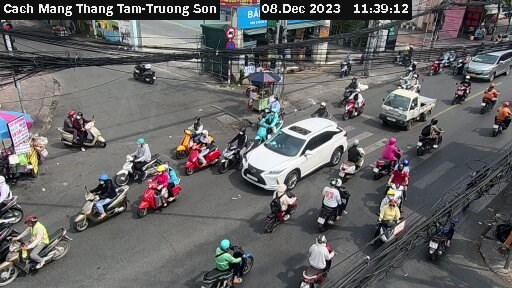car: (240, 114, 346, 187), (465, 43, 511, 84)
motorbike: (2, 225, 72, 281), (67, 173, 135, 225), (199, 237, 260, 288), (417, 204, 462, 260), (136, 173, 188, 221), (263, 181, 310, 231), (59, 111, 112, 154), (289, 232, 334, 282), (115, 145, 173, 183), (121, 52, 176, 91), (311, 177, 353, 227), (1, 168, 31, 225), (409, 119, 454, 156), (369, 203, 404, 250), (381, 163, 417, 204), (213, 132, 251, 170), (369, 141, 405, 179), (336, 141, 367, 182), (449, 73, 478, 110), (263, 99, 300, 125), (183, 138, 214, 168), (488, 104, 512, 139), (325, 56, 363, 78), (176, 121, 210, 145), (474, 85, 500, 114), (338, 78, 371, 100), (426, 53, 454, 78), (337, 92, 363, 117), (258, 108, 286, 130), (308, 101, 336, 122), (405, 78, 426, 98)
truck: (381, 87, 436, 126)
